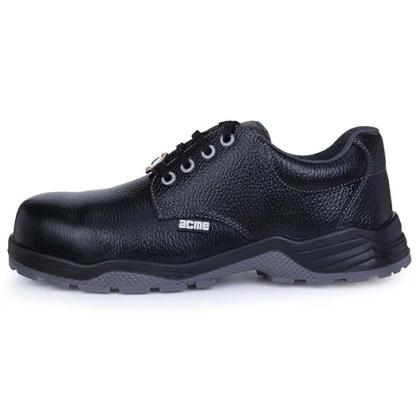bota: (5, 115, 415, 300)
